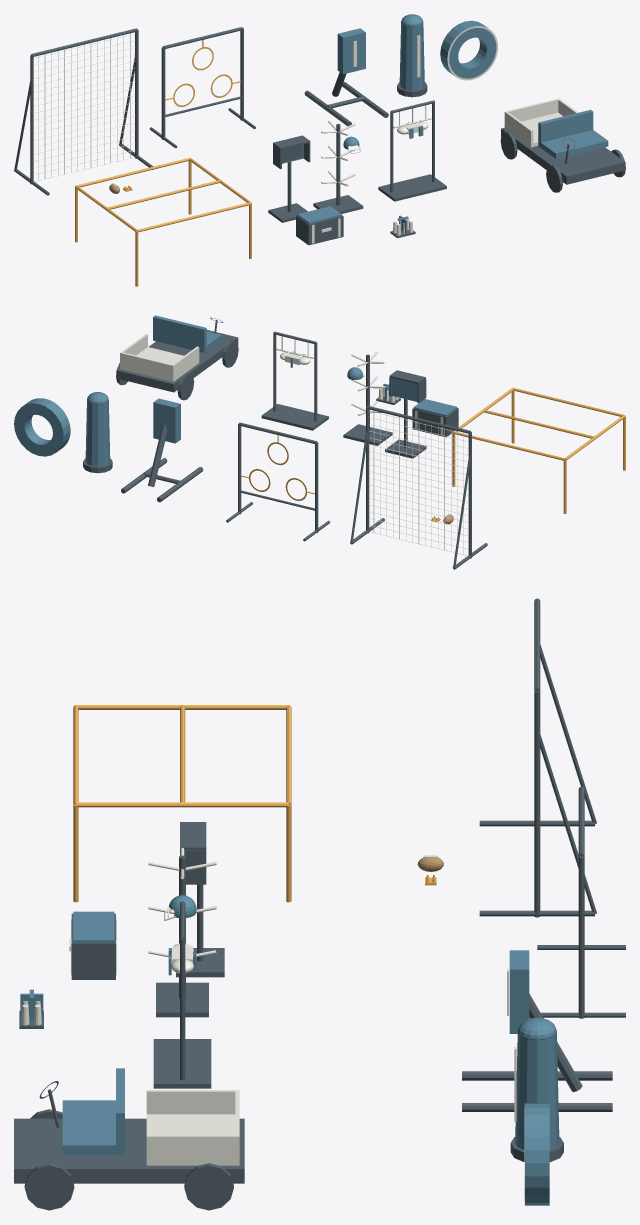
The model's file is american-football-stadium-kit-football-practice-layout-196ade4a__22398.glb.
3 views of the same model, one above another, from view 1: azimuth 30°, elevation 25°; view 2: azimuth 150°, elevation 25°; view 3: azimuth 270°, elevation 25° (orthographic). The views are drawn at different scales.
Visible parts, largest first — view 1: 000-kicking-net/1, 007-agility-chute/0, 012-sideline-utility-cart/0, 012-sideline-utility-cart/1, 000-kicking-net/0, 006-tackle-wheel/0, 012-sideline-utility-cart/2, 010-shoulder-pad-rack/0, 005-tackling-dummy/1, 003-quarterback-target/0, 013-official-review-screen/0, 004-blocking-sled/1 (+6 smaller); view 2: 000-kicking-net/1, 007-agility-chute/0, 000-kicking-net/0, 006-tackle-wheel/0, 012-sideline-utility-cart/2, 012-sideline-utility-cart/0, 010-shoulder-pad-rack/0, 005-tackling-dummy/1, 012-sideline-utility-cart/1, 003-quarterback-target/0, 013-official-review-screen/0, 004-blocking-sled/0 (+7 smaller); view 3: 012-sideline-utility-cart/0, 012-sideline-utility-cart/2, 000-kicking-net/0, 007-agility-chute/0, 005-tackling-dummy/1, 010-shoulder-pad-rack/0, 012-sideline-utility-cart/1, 013-official-review-screen/0, 004-blocking-sled/0, 006-tackle-wheel/0, 003-quarterback-target/0, 008-helmet-rack/0 (+5 smaller).
Boxes of the visible parts, box(x1,y1,x2,y2) form: 000-kicking-net/1: box(33, 33, 135, 181); 007-agility-chute/0: box(75, 158, 251, 286); 012-sideline-utility-cart/0: box(501, 127, 625, 184); 012-sideline-utility-cart/1: box(538, 109, 608, 158); 000-kicking-net/0: box(14, 28, 153, 195); 006-tackle-wheel/0: box(440, 20, 496, 78); 012-sideline-utility-cart/2: box(504, 98, 578, 147); 010-shoulder-pad-rack/0: box(378, 100, 446, 201); 005-tackling-dummy/1: box(399, 14, 424, 90); 003-quarterback-target/0: box(149, 27, 255, 148); 013-official-review-screen/0: box(268, 135, 310, 222); 004-blocking-sled/1: box(337, 28, 365, 74); 000-kicking-net/1: box(369, 410, 468, 555); 007-agility-chute/0: box(452, 387, 625, 513); 000-kicking-net/0: box(350, 406, 487, 569); 006-tackle-wheel/0: box(14, 398, 70, 456); 012-sideline-utility-cart/2: box(120, 334, 199, 381); 012-sideline-utility-cart/0: box(116, 317, 238, 392); 010-shoulder-pad-rack/0: box(261, 331, 328, 430); 005-tackling-dummy/1: box(85, 392, 110, 466); 012-sideline-utility-cart/1: box(153, 315, 221, 352); 003-quarterback-target/0: box(226, 422, 330, 541); 013-official-review-screen/0: box(385, 370, 426, 458); 004-blocking-sled/0: box(121, 424, 203, 502); 012-sideline-utility-cart/0: box(14, 1081, 244, 1183); 012-sideline-utility-cart/2: box(146, 1090, 239, 1165); 000-kicking-net/0: box(479, 598, 596, 917); 007-agility-chute/0: box(73, 705, 291, 902); 005-tackling-dummy/1: box(515, 1017, 559, 1149); 010-shoulder-pad-rack/0: box(153, 901, 211, 1088); 012-sideline-utility-cart/1: box(62, 1068, 124, 1154); 013-official-review-screen/0: box(176, 822, 224, 977); 004-blocking-sled/0: box(462, 993, 612, 1111); 006-tackle-wheel/0: box(525, 1103, 549, 1205); 003-quarterback-target/0: box(537, 786, 625, 1018); 008-helmet-rack/0: box(156, 855, 208, 1017).
Bounding box in the file's own units: 11.21 × 2.84 × 6.9.
